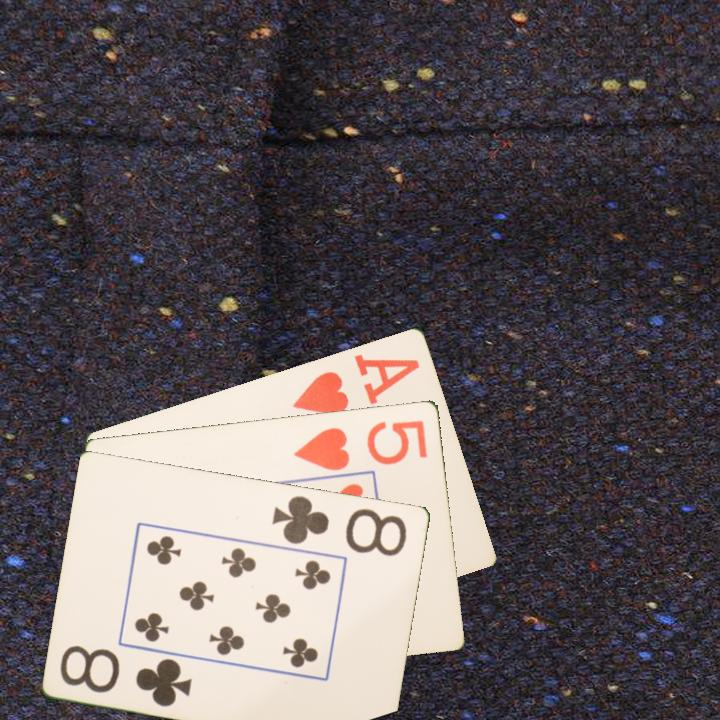5h: (290, 416, 431, 473)
8c: (269, 491, 410, 559), (56, 641, 195, 709)
Ah: (289, 350, 423, 417)
